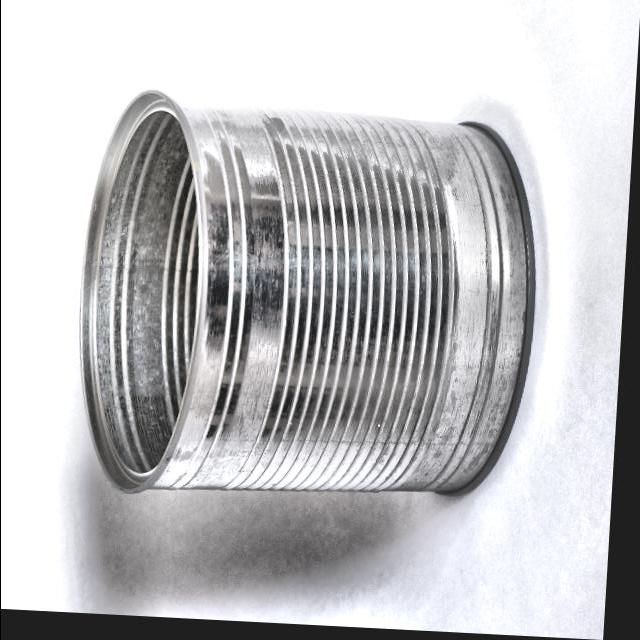Aluminum Can: (65, 87, 552, 526)
